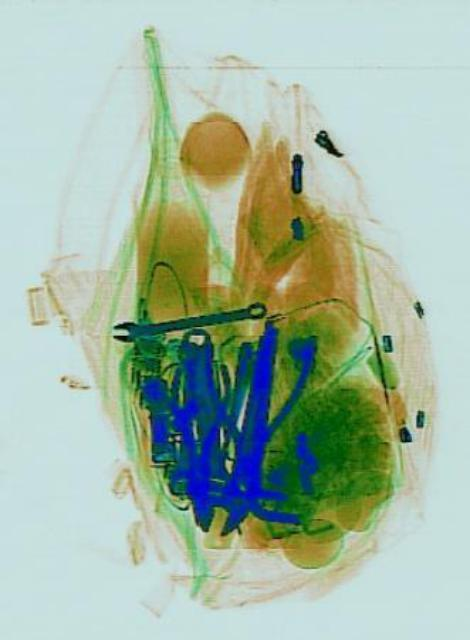Pliers: (188, 327, 310, 497)
Wrench: (164, 318, 252, 540), (109, 298, 264, 342)
